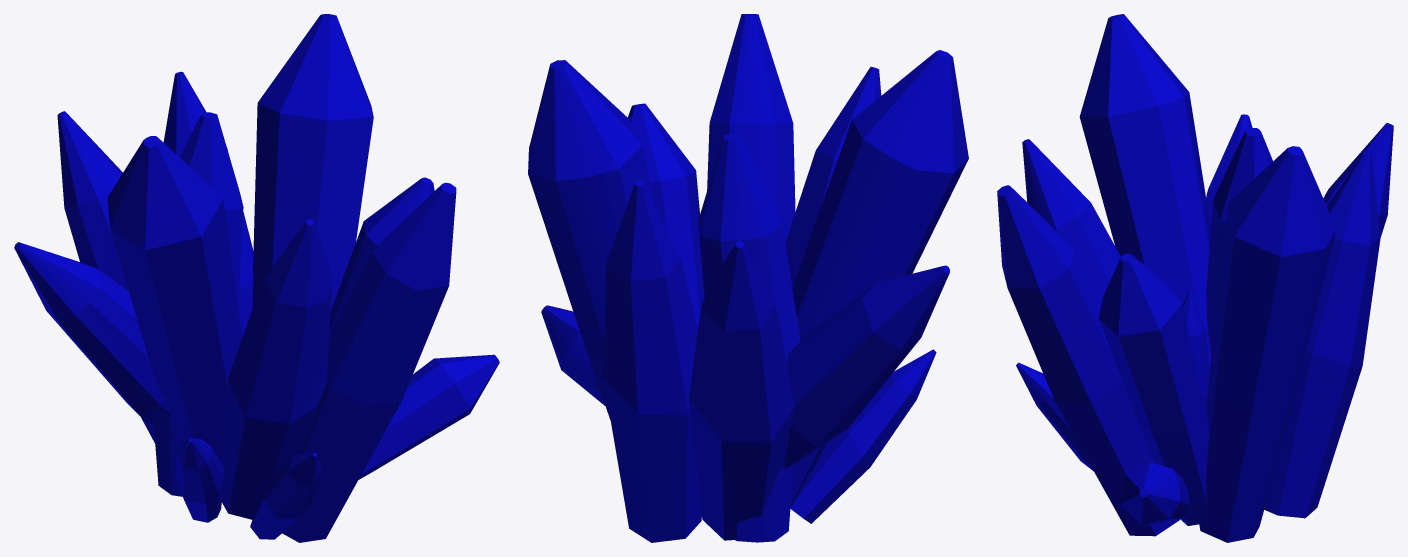
The model's file is Crystal_Bunch_DarkBlue.fbx.
The picture shows the model from 3 angles, left to right: view 1: azimuth 30°, elevation 25°; view 2: azimuth 150°, elevation 25°; view 3: azimuth 270°, elevation 25°; orthographic projection. The views are drawn at different scales.
Visible parts, largest first — view 1: Model; view 2: Model; view 3: Model.
Part boxes in pixels (x1,y1,x2,y2): Model: [14, 14, 499, 542]; Model: [528, 14, 968, 542]; Model: [997, 14, 1393, 542].
Size of the model in its own units: 337 by 335 by 276.
